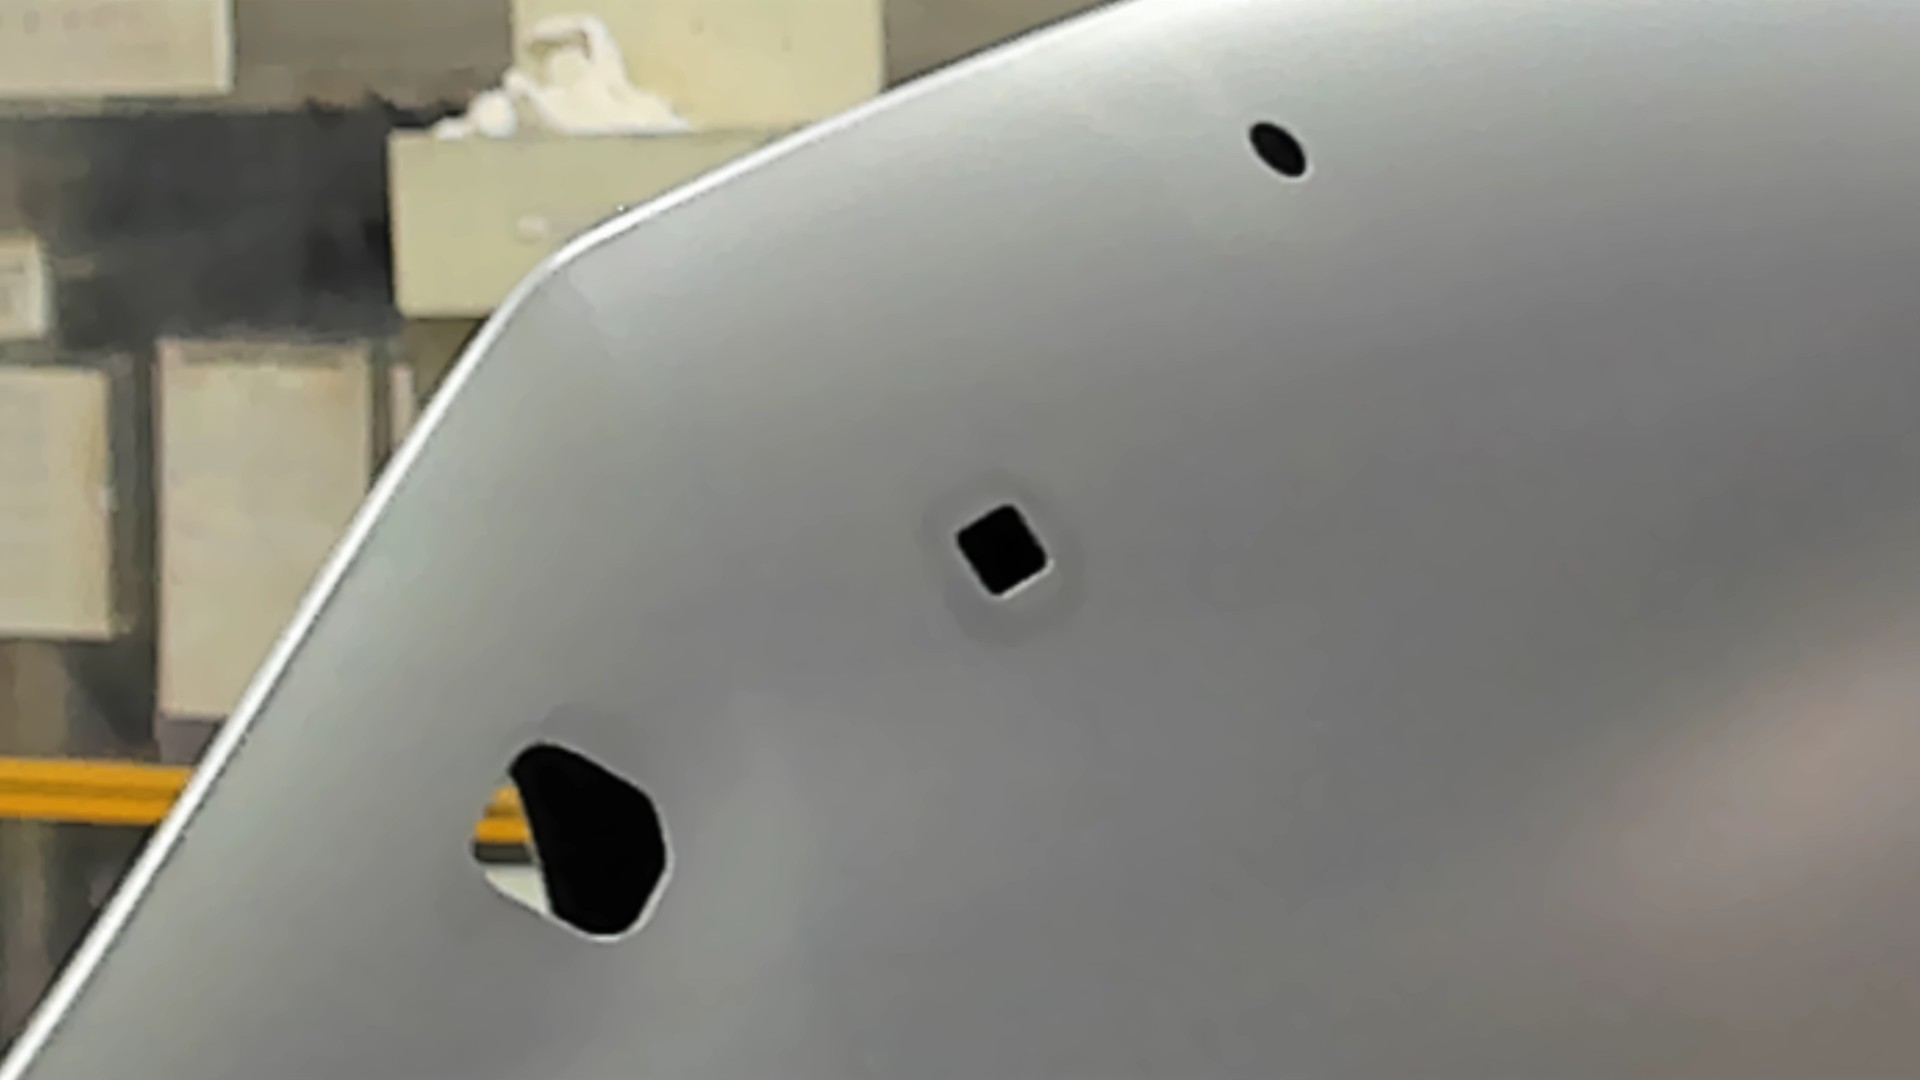chico: (1247, 117, 1309, 181)
grande: (463, 736, 678, 945)
mediano: (951, 500, 1054, 601)
